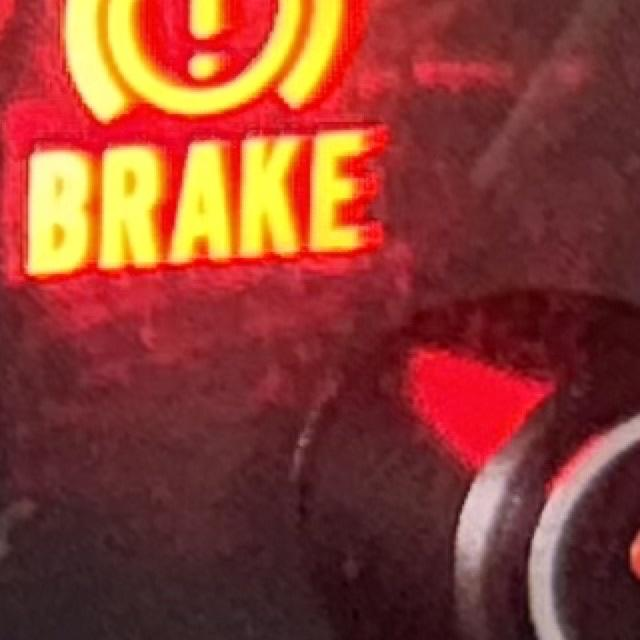Break System Issue: (23, 1, 388, 277)
